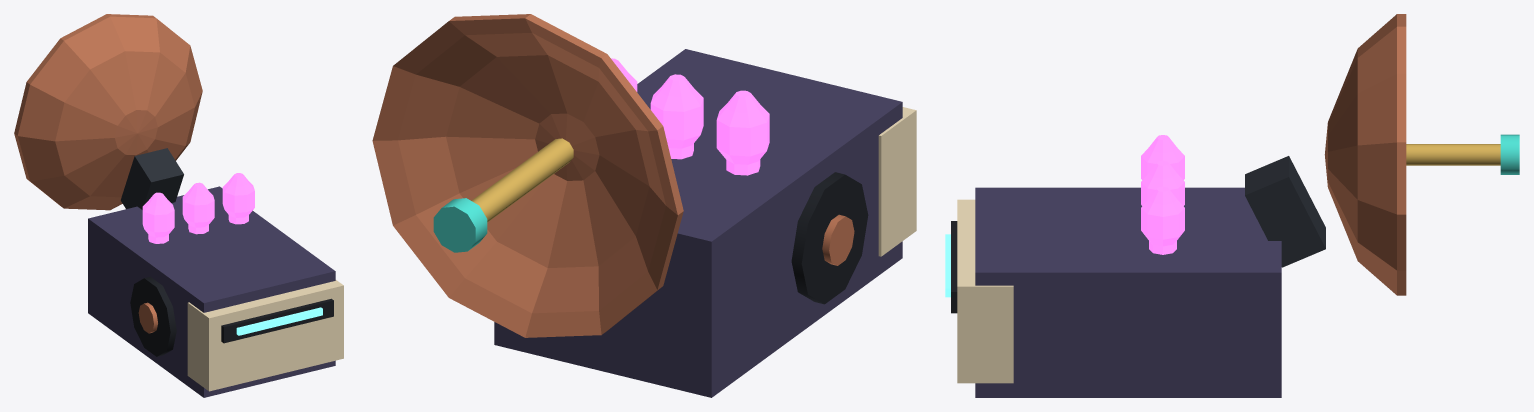
Rendered from disruptor.glb.
3 renders of one model, left to right at view 1: azimuth 30°, elevation 25°; view 2: azimuth 150°, elevation 25°; view 3: azimuth 270°, elevation 25°, orthographic. The views are drawn at different scales.
Parts seen in each view (by area): view 1: Merged; view 2: Merged; view 3: Merged.
Part boxes in pixels (<box>): Merged: <box>14,14,343,397</box>; Merged: <box>372,14,916,397</box>; Merged: <box>945,14,1519,397</box>.
Size of the model in its own units: 0.297 by 0.3812 by 0.6031.
